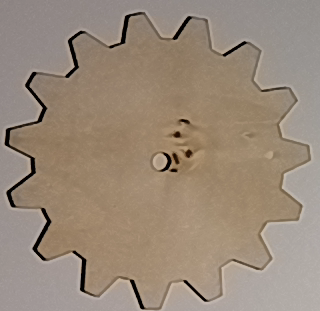Points: (171, 152, 181, 166), (177, 117, 192, 126), (184, 147, 194, 160), (172, 130, 183, 139), (168, 168, 179, 173)
